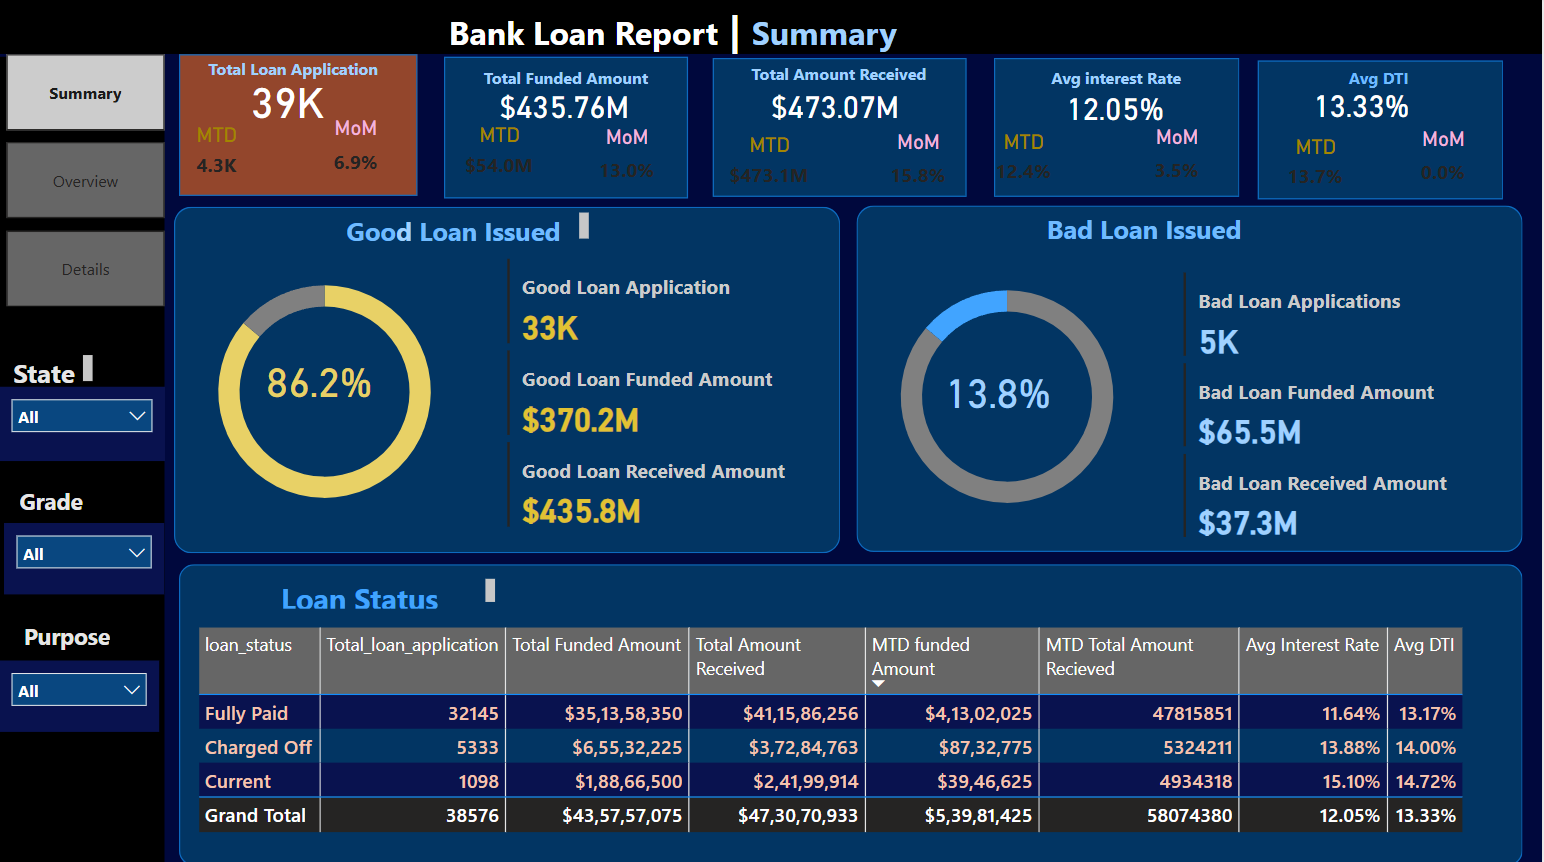

Layout of this report page (visuals, bound fields, positions):
{"tool":"powerbi","page":{"name":"Summary","canvas":[1280,720],"ordinal":0},"visuals":[{"type":"shape","box":[0,0,1280,46.7],"z":0},{"type":"shape","box":[0,48.8,137.2,668.6],"z":1000},{"type":"textbox","box":[368.3,0,543.3,68.3],"z":2000},{"type":"shape","box":[148.8,46.5,197.7,117.4],"z":3000},{"type":"card","fields":{"Values":["financial_loan.Total_loan_application"]},"box":[180,61,118,47],"z":4000},{"type":"textbox","box":[125.6,44.2,237.2,47.7],"z":5000},{"type":"card","title":"MTD","fields":{"Values":["financial_loan.MTD Loan Applicaton"]},"box":[126,104,108,55],"z":6000},{"type":"card","title":"MoM","fields":{"Values":["financial_loan.MoM Loan application"]},"box":[438,103,103,54],"z":7000},{"type":"shape","box":[368.6,48.8,202.3,117.4],"z":8000},{"type":"textbox","box":[369.8,52.3,200,31.4],"z":9000},{"type":"card","fields":{"Values":["financial_loan.Total Funded Amount"]},"box":[380.2,66.3,176.7,46.5],"z":10000},{"type":"card","title":"MTD","fields":{"Values":["financial_loan.MTD funded Amoutn"]},"box":[360.5,103.5,108.1,54.7],"z":11000},{"type":"card","title":"MoM","fields":{"Values":["financial_loan.MoM Loan application"]},"box":[244.2,97.7,102.3,61.6],"z":12000},{"type":"shape","box":[145.3,173.3,552.3,287.2],"z":13000},{"type":"card","title":"MoM","fields":{"Values":["financial_loan.Mom Total Funded Amount"]},"box":[469.8,104.7,102.3,60.5],"z":14000},{"type":"shape","box":[591.9,50,210.5,115.1],"z":15000},{"type":"card","fields":{"Values":["financial_loan.Total Amount Received"]},"box":[604.7,66.3,177.9,46.5],"z":16000},{"type":"card","title":"MTD","fields":{"Values":["financial_loan.Total Amount Received"]},"box":[584.9,111.6,108.1,54.7],"z":17000},{"type":"card","title":"MoM","fields":{"Values":["financial_loan.MoM Total Amount Recieved"]},"box":[710.5,109.3,102.3,60.5],"z":18000},{"type":"shape","box":[824.4,50,203.5,115.1],"z":19000},{"type":"card","fields":{"Values":["financial_loan.Avg Interest Rate"]},"box":[836,68.6,177.9,46.5],"z":20000},{"type":"card","title":"MTD","fields":{"Values":["financial_loan.MTD avg Int Rate"]},"box":[786,109.3,125.6,54.7],"z":21000},{"type":"card","title":"MoM","fields":{"Values":["financial_loan.MoM Avg Int Rate"]},"box":[925.6,104.7,102.3,60.5],"z":22000},{"type":"textbox","box":[595.4,48.8,204.7,34.9],"z":23000},{"type":"textbox","box":[827.9,52.3,200,32.6],"z":24000},{"type":"shape","box":[1043,52.3,203.5,115.1],"z":25000},{"type":"textbox","box":[1041.9,52.3,204.7,34.9],"z":26000},{"type":"card","fields":{"Values":["financial_loan.Avg DTI"]},"box":[1040.7,65.1,177.9,46.5],"z":27000},{"type":"card","title":"MTD","fields":{"Values":["financial_loan.MTD Avg Dti"]},"box":[1037.2,112.8,108.1,54.7],"z":28000},{"type":"card","title":"MoM","fields":{"Values":["financial_loan.MoM Avg DTI"]},"box":[1146.5,107,102.3,60.5],"z":29000},{"type":"shape","box":[710.5,172.1,552.3,287.2],"z":30000},{"type":"donutChart","fields":{"Category":["financial_loan.Good v Bad Loan"],"Y":["financial_loan.Total_loan_application"]},"box":[145.3,211.6,250,230.2],"z":31000},{"type":"card","fields":{"Values":["financial_loan.Good Loan %"]},"box":[205.8,294.2,118.6,44.2],"z":32000},{"type":"textbox","box":[267.4,173.3,226.7,34.9],"z":33000},{"type":"cardVisual","fields":{"Data":["financial_loan.Good Loan Application","financial_loan.Good Loan Funded Amount","financial_loan.Good Loan Received Amount"]},"box":[416.3,211.6,281.4,233.7],"z":34000},{"type":"donutChart","fields":{"Category":["financial_loan.Good v Bad Loan"],"Y":["financial_loan.Total_loan_application"]},"box":[710.5,215.1,250,230.2],"z":35000},{"type":"textbox","box":[753.5,172.1,391.9,43],"z":36000},{"type":"card","fields":{"Values":["financial_loan.Bad Loan %"]},"box":[768.6,294.2,118.6,62.8],"z":37000},{"type":"cardVisual","fields":{"Data":["financial_loan.Bad Loan Applications","financial_loan.Bad Loan Funded Amount","financial_loan.Bad Loan Received Amount"]},"box":[976.7,223.3,284.9,231.4],"z":38000},{"type":"textbox","box":[169.8,470.9,203.5,46.5],"z":39000},{"type":"shape","box":[148.8,469.8,1114,250],"z":40000},{"type":"tableEx","fields":{"Values":["financial_loan.loan_status","financial_loan.Total_loan_application","financial_loan.Total Funded Amount","financial_loan.Total Amount Received","financial_loan.MTD funded Amoutn","financial_loan.MTD Total Amount Recieved","financial_loan.Avg Interest Rate","financial_loan.Avg DTI"]},"box":[159.6,517.1,1074.6,203.1],"z":41000},{"type":"textbox","box":[189.5,476.7,226.7,34.9],"z":42000},{"type":"slicer","fields":{"Values":["financial_loan.address_state"]},"box":[0,322.1,137.2,61.6],"z":43000},{"type":"textbox","box":[0,290.7,82.6,34.9],"z":44000},{"type":"slicer","fields":{"Values":["financial_loan.grade"]},"box":[4.7,434.9,132.6,59.3],"z":45000},{"type":"textbox","box":[4.7,400,77.9,34.9],"z":46000},{"type":"slicer","fields":{"Values":["financial_loan.purpose"]},"box":[0,548.8,132.6,59.3],"z":47000},{"type":"textbox","box":[5.8,511.6,100,34.9],"z":48000},{"type":"pageNavigator","box":[5.8,46.5,131.4,210.5],"z":49000}]}

Visuals, with their boxes on the page's 1280x720 design canvas (x1, y1, x2, y2). These are canvas units, not pixel positions in the 1544x862 screenshot, which may show the page scaled, cropped or inside an application window:
shape: crop(0, 0, 1280, 47)
shape: crop(0, 49, 137, 717)
textbox: crop(368, 0, 912, 68)
shape: crop(149, 46, 346, 164)
card - financial_loan.Total_loan_application: crop(180, 61, 298, 108)
textbox: crop(126, 44, 363, 92)
"MTD" card: crop(126, 104, 234, 159)
"MoM" card: crop(438, 103, 541, 157)
shape: crop(369, 49, 571, 166)
textbox: crop(370, 52, 570, 84)
card - financial_loan.Total Funded Amount: crop(380, 66, 557, 113)
"MTD" card: crop(360, 104, 469, 158)
"MoM" card: crop(244, 98, 346, 159)
shape: crop(145, 173, 698, 460)
"MoM" card: crop(470, 105, 572, 165)
shape: crop(592, 50, 802, 165)
card - financial_loan.Total Amount Received: crop(605, 66, 783, 113)
"MTD" card: crop(585, 112, 693, 166)
"MoM" card: crop(710, 109, 813, 170)
shape: crop(824, 50, 1028, 165)
card - financial_loan.Avg Interest Rate: crop(836, 69, 1014, 115)
"MTD" card: crop(786, 109, 912, 164)
"MoM" card: crop(926, 105, 1028, 165)
textbox: crop(595, 49, 800, 84)
textbox: crop(828, 52, 1028, 85)
shape: crop(1043, 52, 1246, 167)
textbox: crop(1042, 52, 1247, 87)
card - financial_loan.Avg DTI: crop(1041, 65, 1219, 112)
"MTD" card: crop(1037, 113, 1145, 168)
"MoM" card: crop(1146, 107, 1249, 168)
shape: crop(710, 172, 1263, 459)
donutChart - financial_loan.Good v Bad Loan x financial_loan.Total_loan_application: crop(145, 212, 395, 442)
card - financial_loan.Good Loan %: crop(206, 294, 324, 338)
textbox: crop(267, 173, 494, 208)
cardVisual - financial_loan.Good Loan Application x financial_loan.Good Loan Funded Amount: crop(416, 212, 698, 445)
donutChart - financial_loan.Good v Bad Loan x financial_loan.Total_loan_application: crop(710, 215, 960, 445)
textbox: crop(754, 172, 1145, 215)
card - financial_loan.Bad Loan %: crop(769, 294, 887, 357)
cardVisual - financial_loan.Bad Loan Applications x financial_loan.Bad Loan Funded Amount: crop(977, 223, 1262, 455)
textbox: crop(170, 471, 373, 517)
shape: crop(149, 470, 1263, 720)
tableEx - financial_loan.loan_status x financial_loan.Total_loan_application: crop(160, 517, 1234, 720)
textbox: crop(190, 477, 416, 512)
slicer - financial_loan.address_state: crop(0, 322, 137, 384)
textbox: crop(0, 291, 83, 326)
slicer - financial_loan.grade: crop(5, 435, 137, 494)
textbox: crop(5, 400, 83, 435)
slicer - financial_loan.purpose: crop(0, 549, 133, 608)
textbox: crop(6, 512, 106, 546)
pageNavigator: crop(6, 46, 137, 257)
